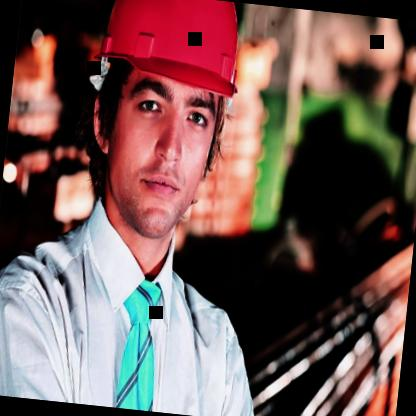helmet: (56, 0, 259, 295)
